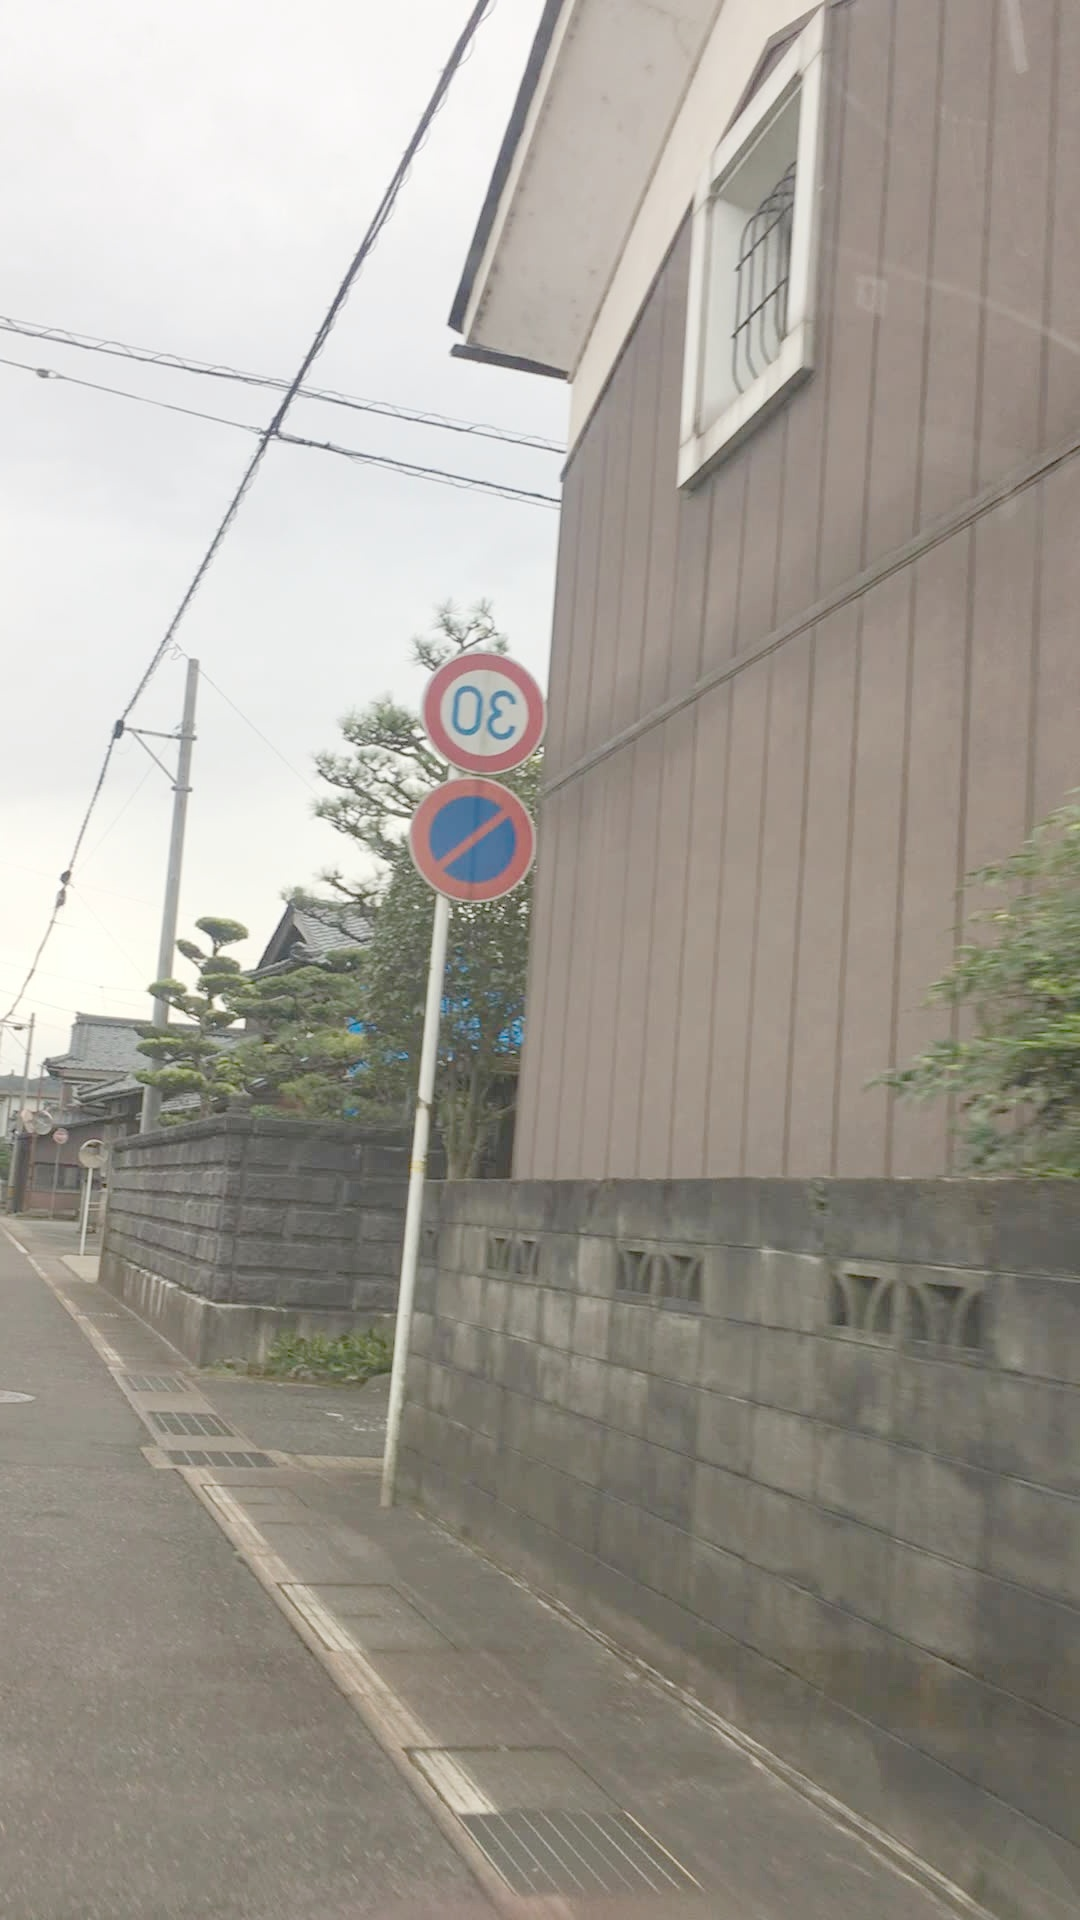Prohibition_sign: (400, 790, 553, 942)
Speed_sign: (436, 655, 553, 796)
